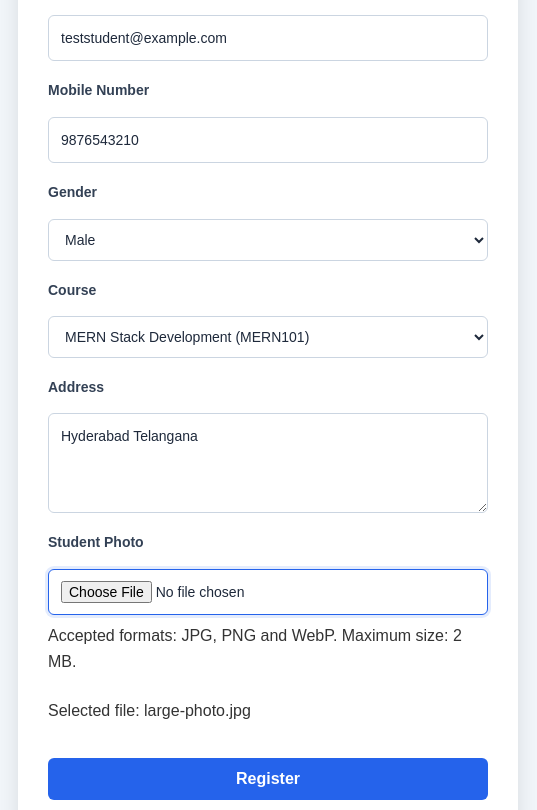
Scenario: StudentForm Component › should reject a photo larger than 2 MB
This screenshot has width=537, height=810.
Earlier steps of the test are not shown.
(page scrolled)
Click the button "Register" at (268, 779), box [48,758,488,800]
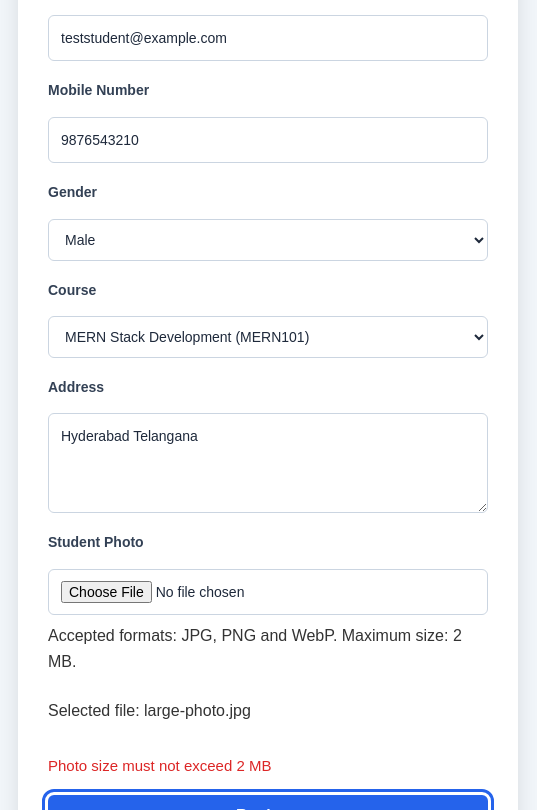
Check: the text "Photo size must not exceed 2 MB" is shown, box [48,757,272,774]
